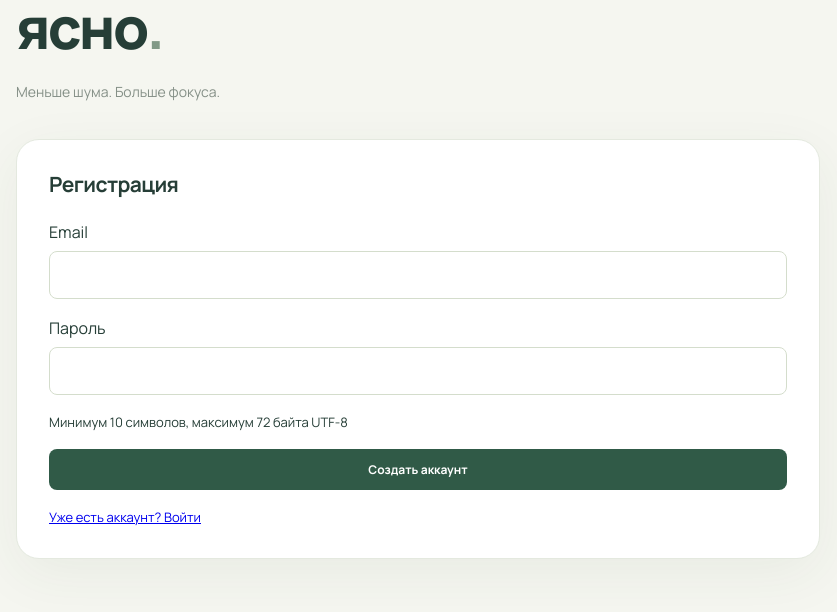
does not disclose whether an email already exists during registration
Type "one@example.com" into the field labelled "Email" at (418,275), box [49, 251, 787, 299]
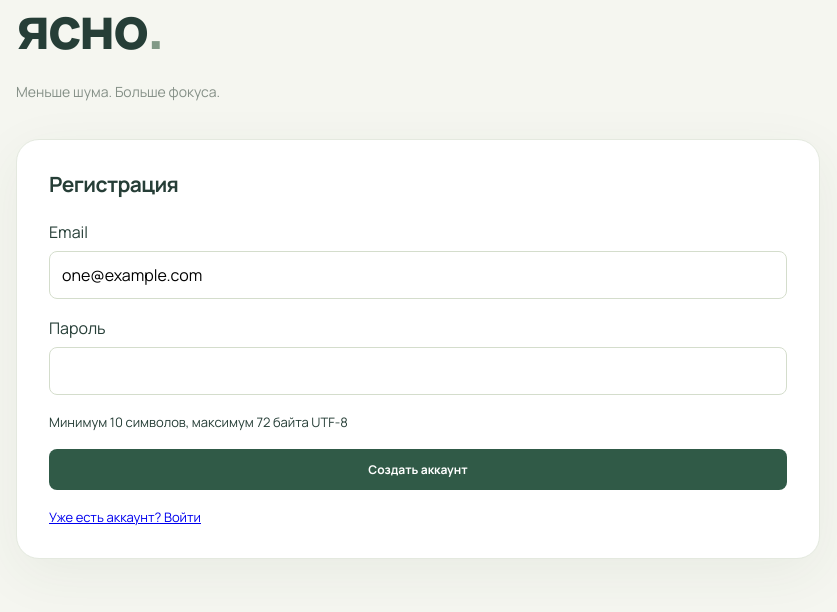
Type "password123" into the password field labelled "Пароль" at (418,371), box [49, 347, 787, 395]
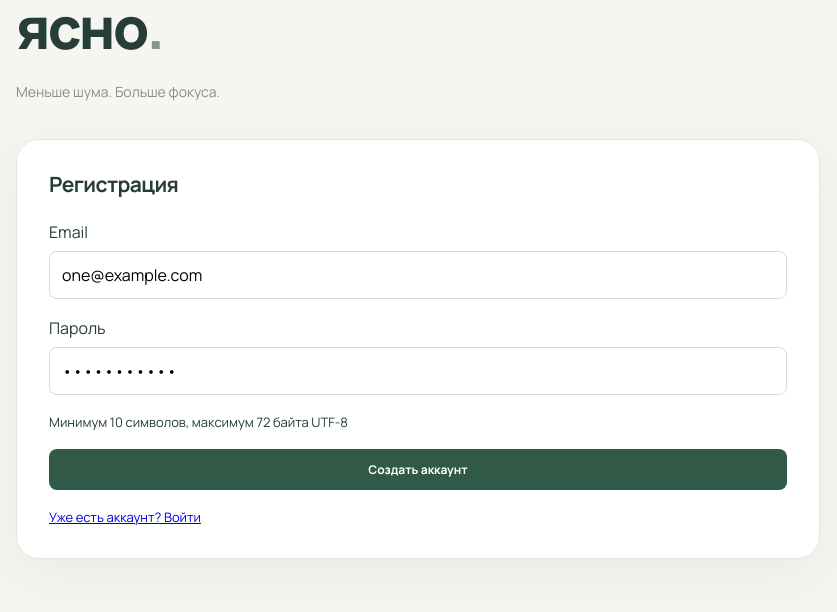
Click the button "Создать аккаунт" at (418,470), box [49, 449, 787, 490]
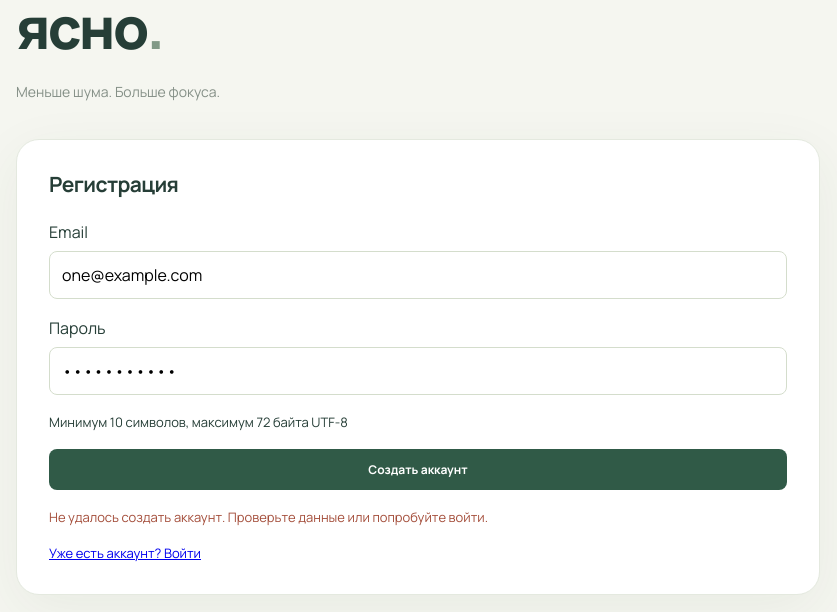
Expected: the message does not show "уже зарегистрирован", [49, 508, 488, 526]
Expected: the message reads "Не удалось создать аккаунт. Проверьте данные или попробуйте войти.", [49, 508, 488, 526]
